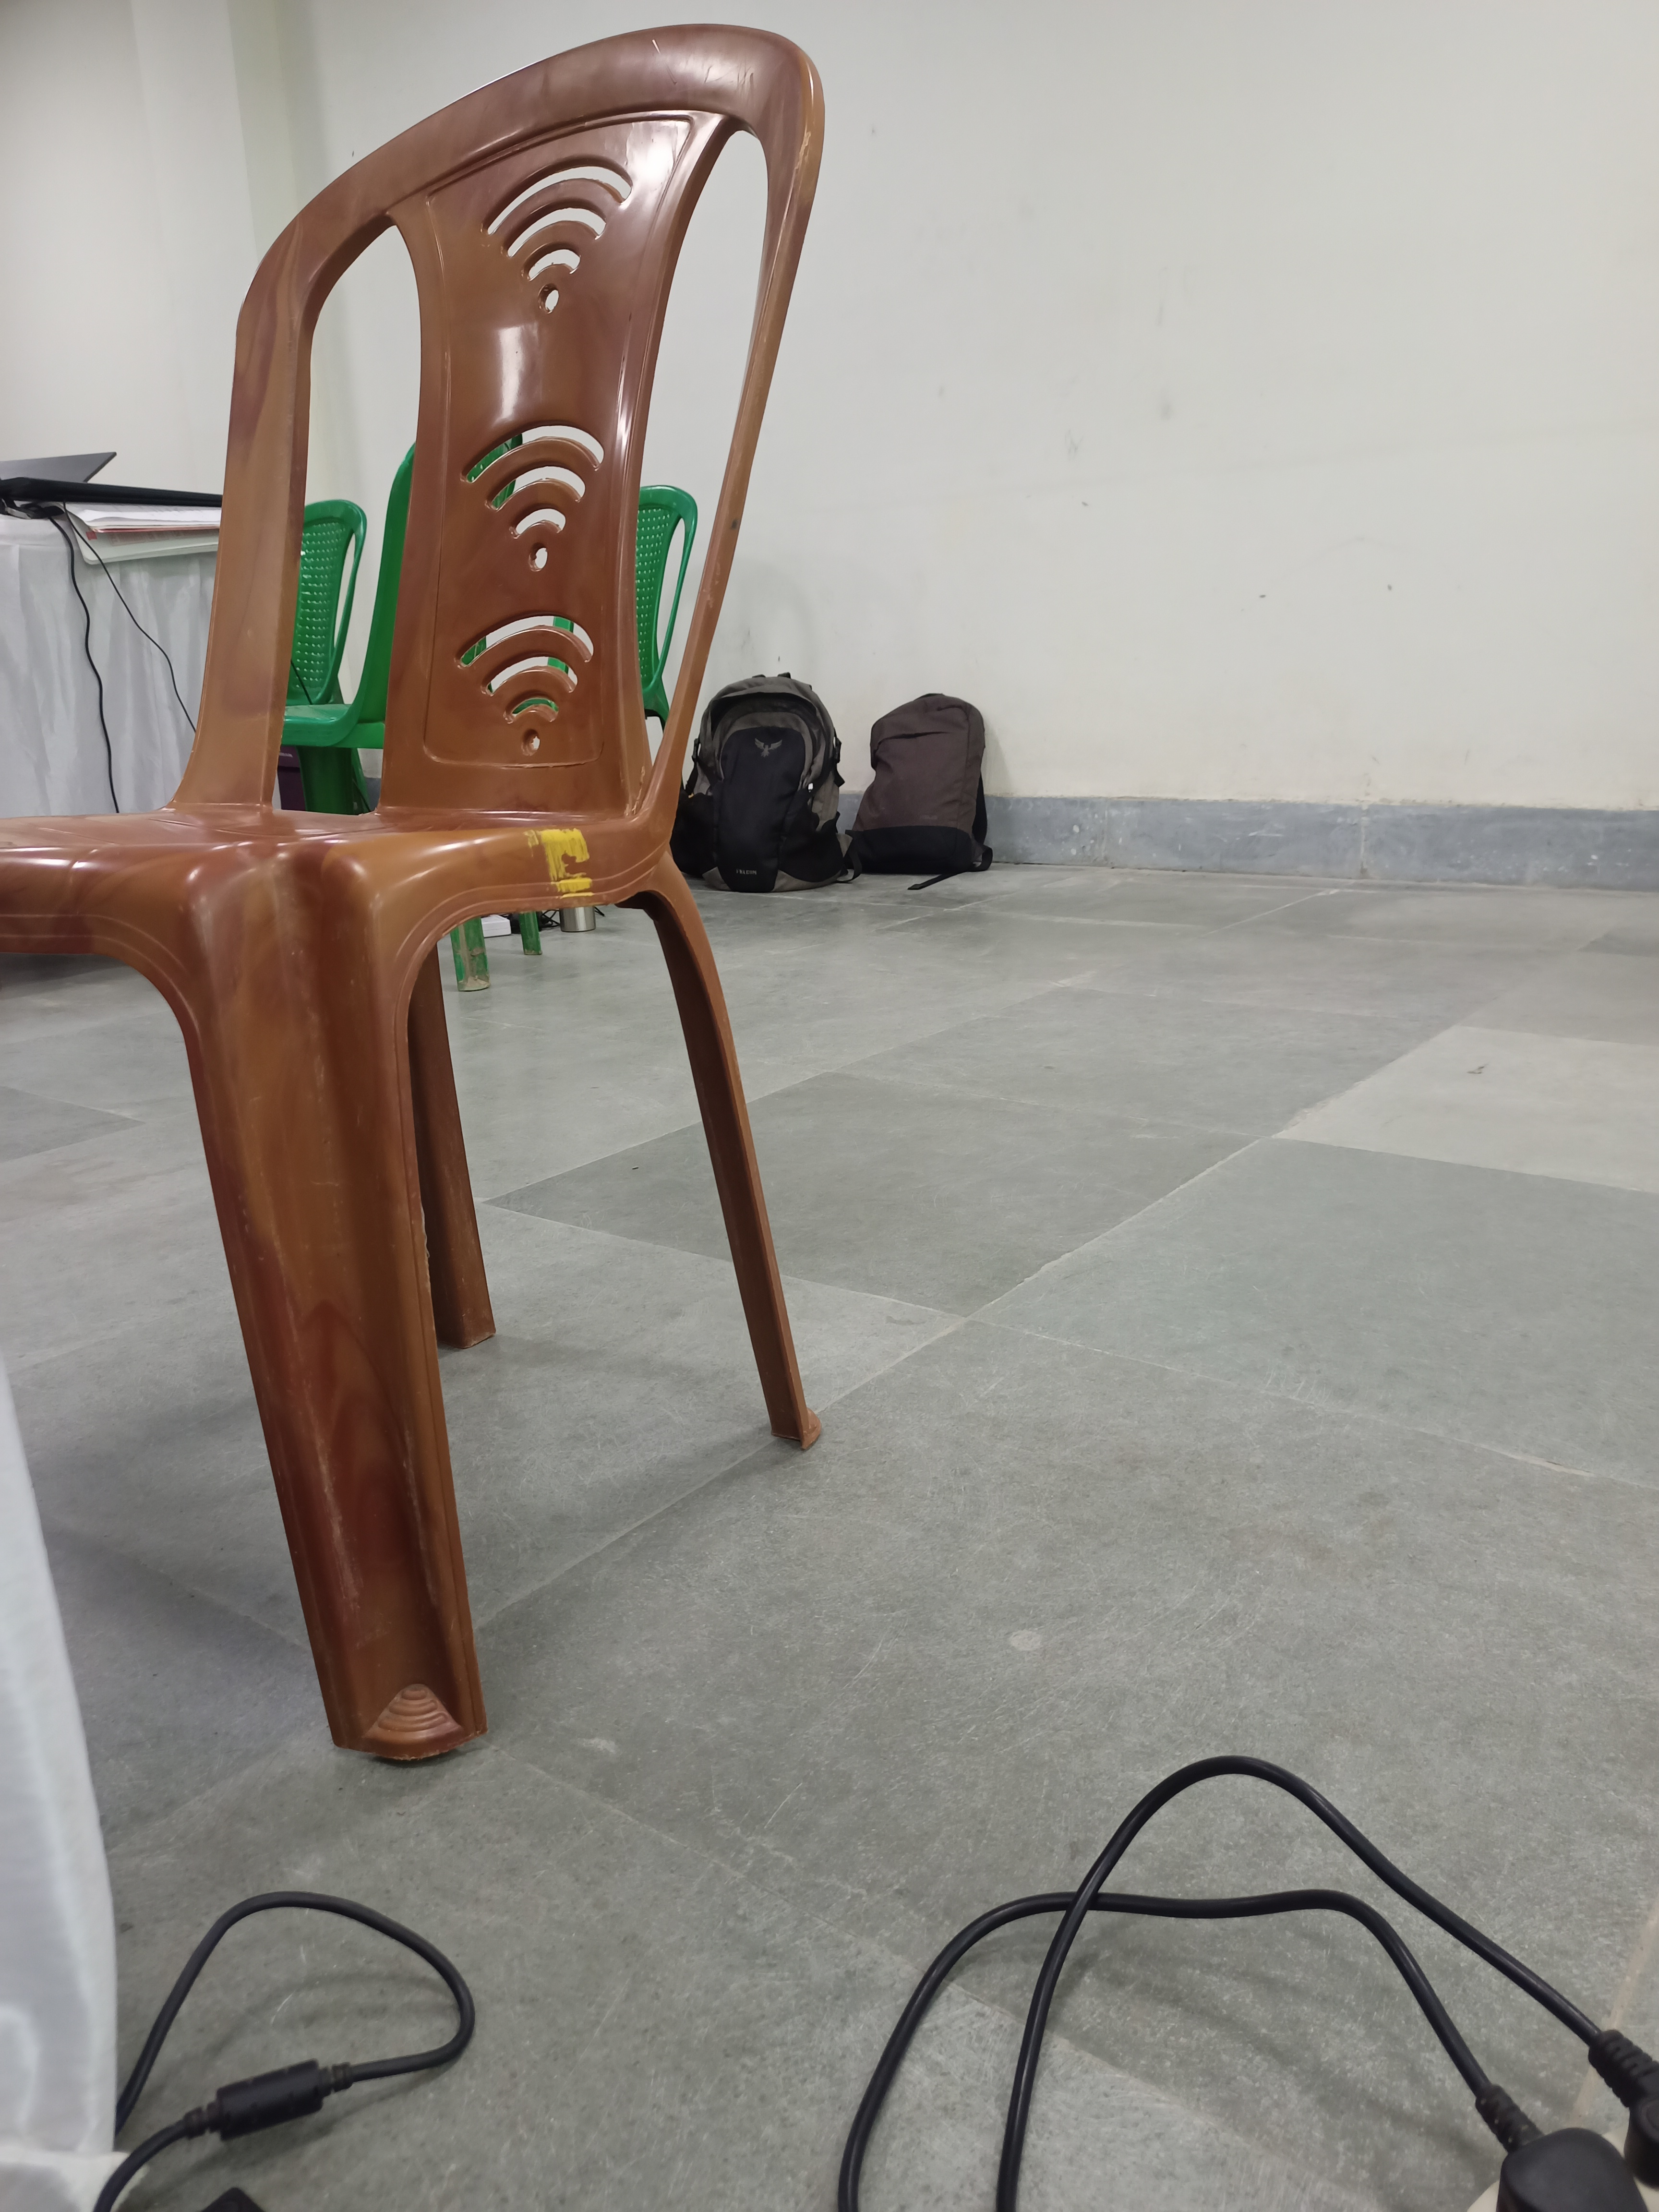Obstacle: (10, 479, 845, 1686)
Path: (950, 883, 1659, 2209)
